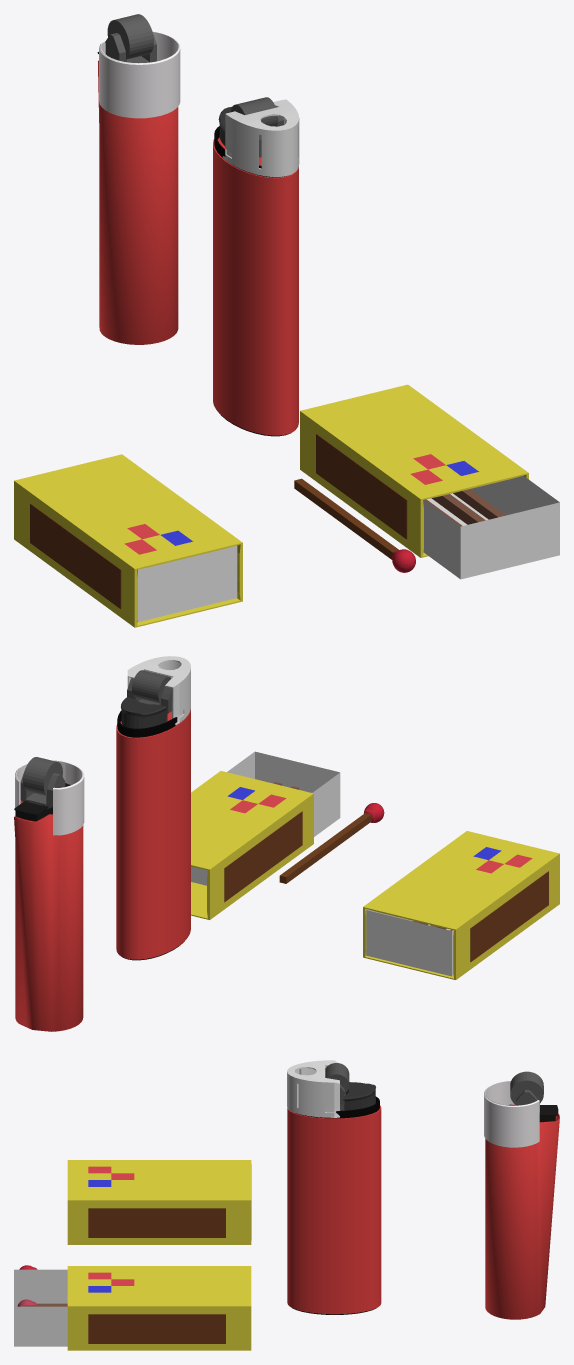
The model's file is LightAll.fbx.
The picture shows the model from 3 angles, top to bottom: view 1: azimuth 30°, elevation 25°; view 2: azimuth 150°, elevation 25°; view 3: azimuth 270°, elevation 25°; orthographic projection. The views are drawn at different scales.
Parts seen in each view (by area): view 1: Lighter2, BoxClosed, Lighter1, Box.001, MatchBox, MatchBox.001, Match; view 2: Lighter2, BoxClosed, Lighter1, Box.001, MatchBox, Match, MatchBox.001; view 3: Lighter2, Lighter1, Box.001, BoxClosed, MatchBox, MatchBox.001.
Boxes of the visible parts, x1,y1,x2,y2 form: Lighter2: (213,97,299,436); BoxClosed: (14,454,242,627); Lighter1: (97,14,180,344); Box.001: (300,384,528,557); MatchBox: (423,476,559,579); MatchBox.001: (424,476,559,578); Match: (294,478,415,572); Lighter2: (116,656,190,960); BoxClosed: (363,831,559,979); Lighter1: (14,757,84,1031); Box.001: (191,771,313,919); MatchBox: (191,751,340,885); Match: (279,803,384,883); MatchBox.001: (191,752,340,885); Lighter2: (287,1060,381,1314); Lighter1: (484,1071,559,1319); Box.001: (67,1266,251,1350); BoxClosed: (67,1160,251,1244); MatchBox: (14,1269,67,1346); MatchBox.001: (14,1269,67,1346).
Size of the model in its own units: 958 by 751 by 1511.
